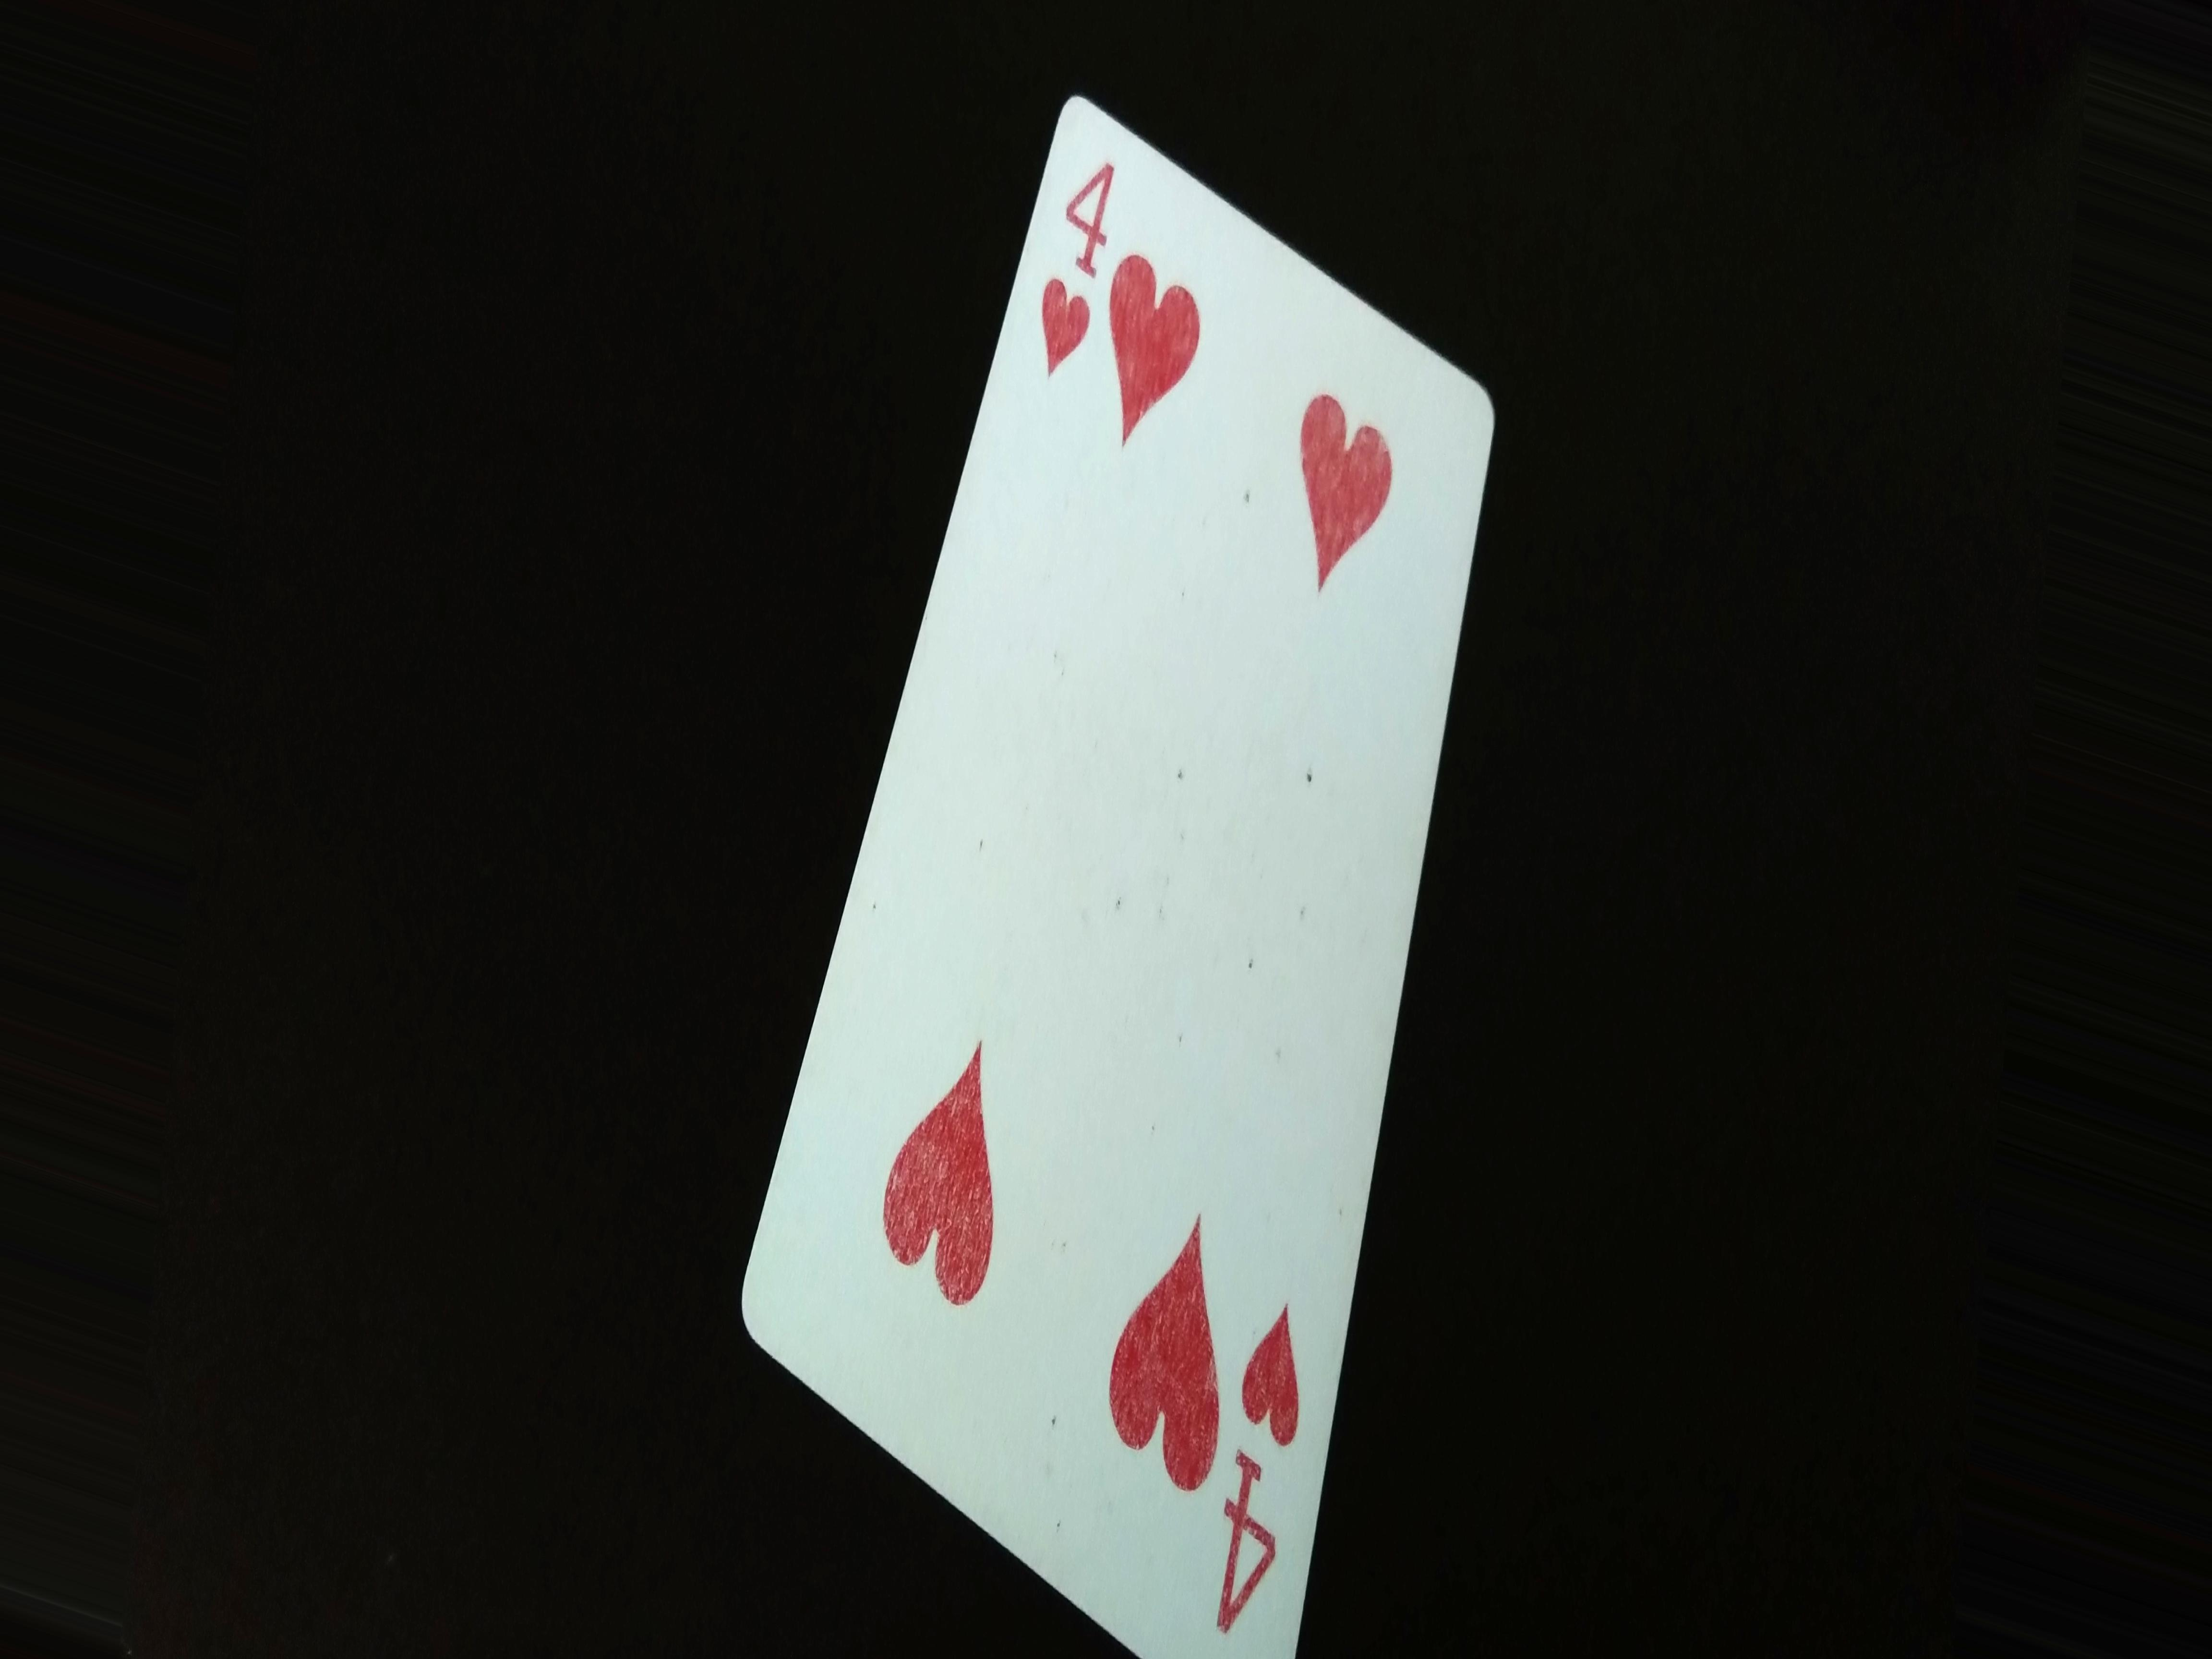4H: (1022, 164, 1136, 397)
